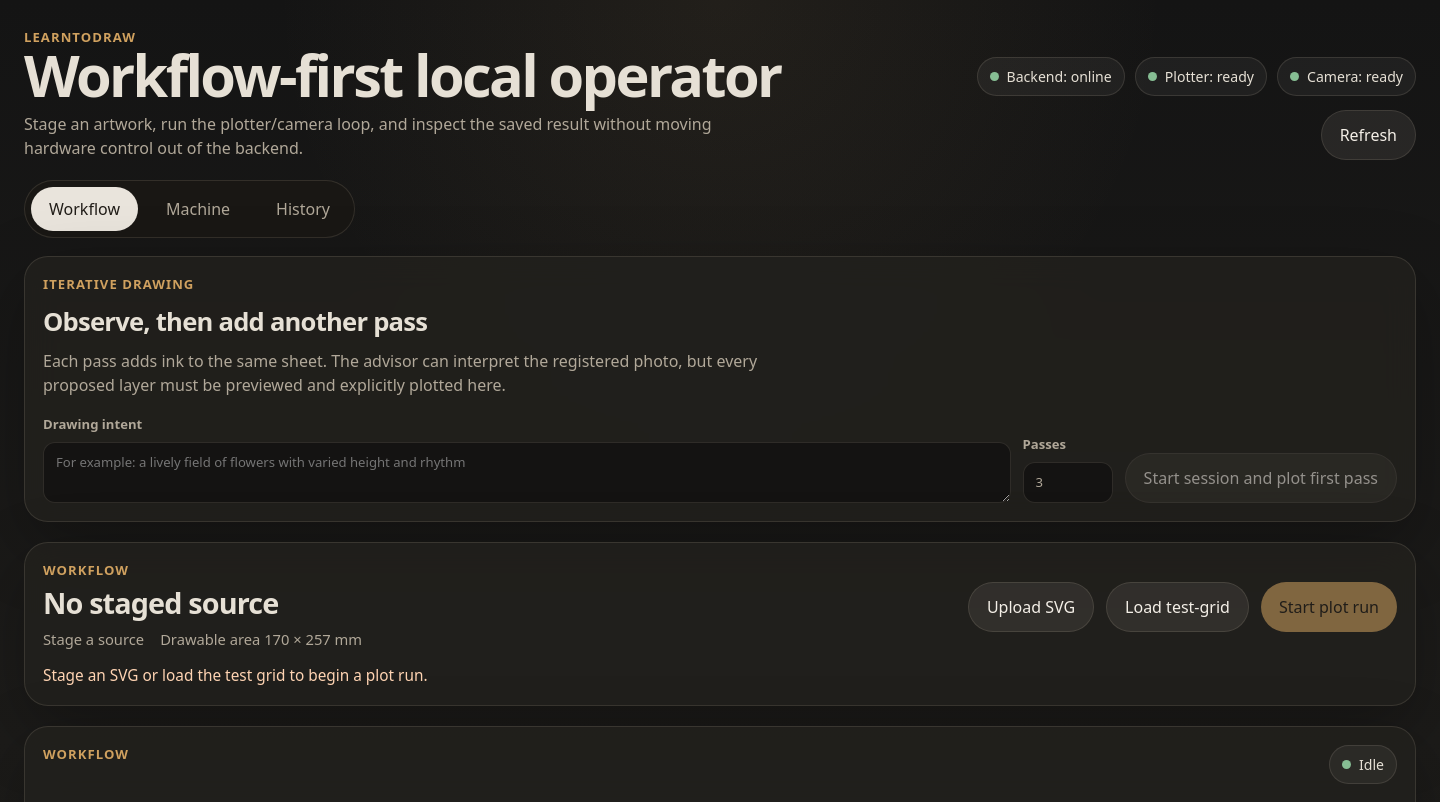
Test: workflow-first dashboard › keeps machine controls on the Machine tab
Click the button "Machine".
click(198, 209)  # box x1=148 y1=187 x2=248 y2=231
(page scrolled)
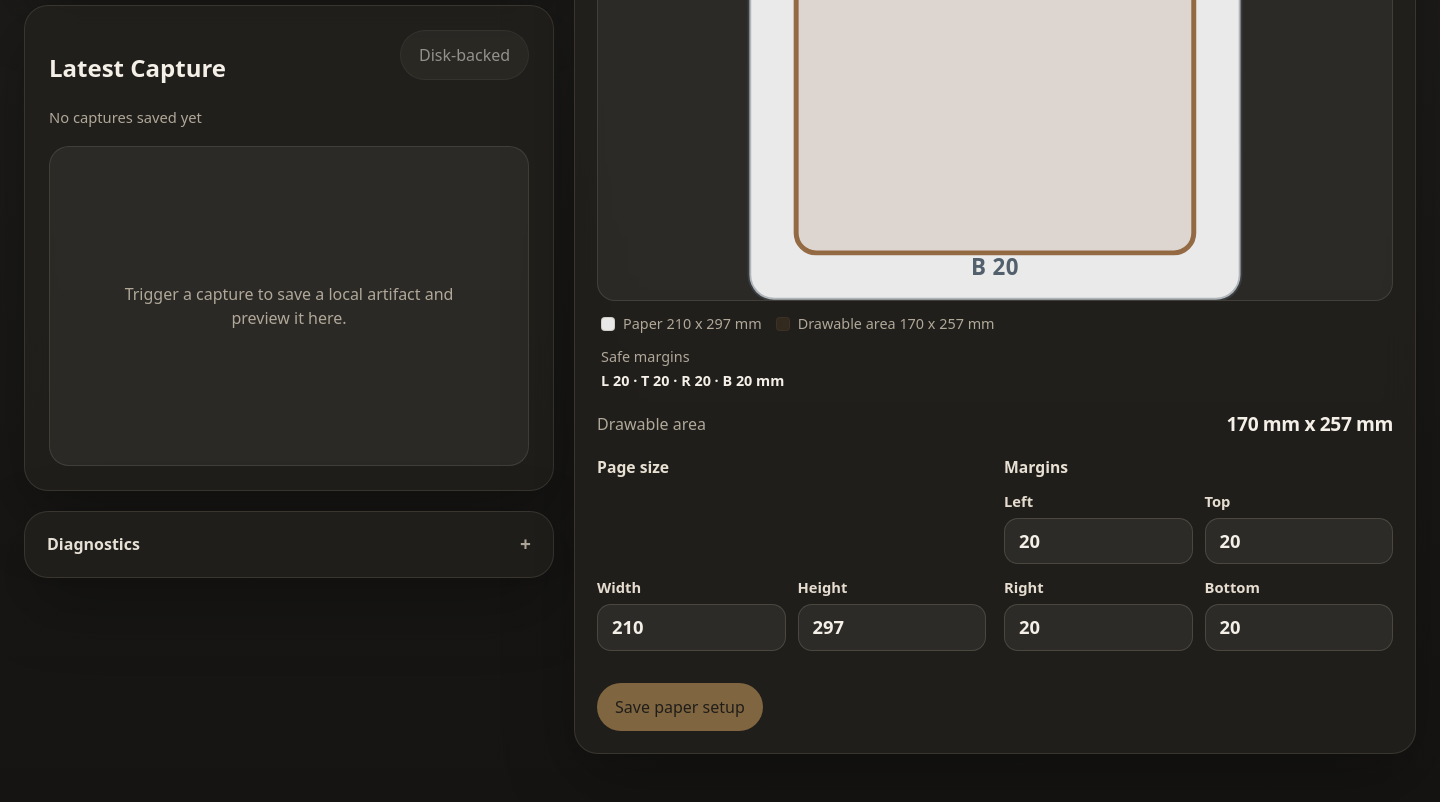
Check: the heading "Latest Capture" is shown, box x1=49 y1=50 x2=226 y2=86
Check: the button "Save paper setup" is shown, box x1=597 y1=682 x2=763 y2=730
